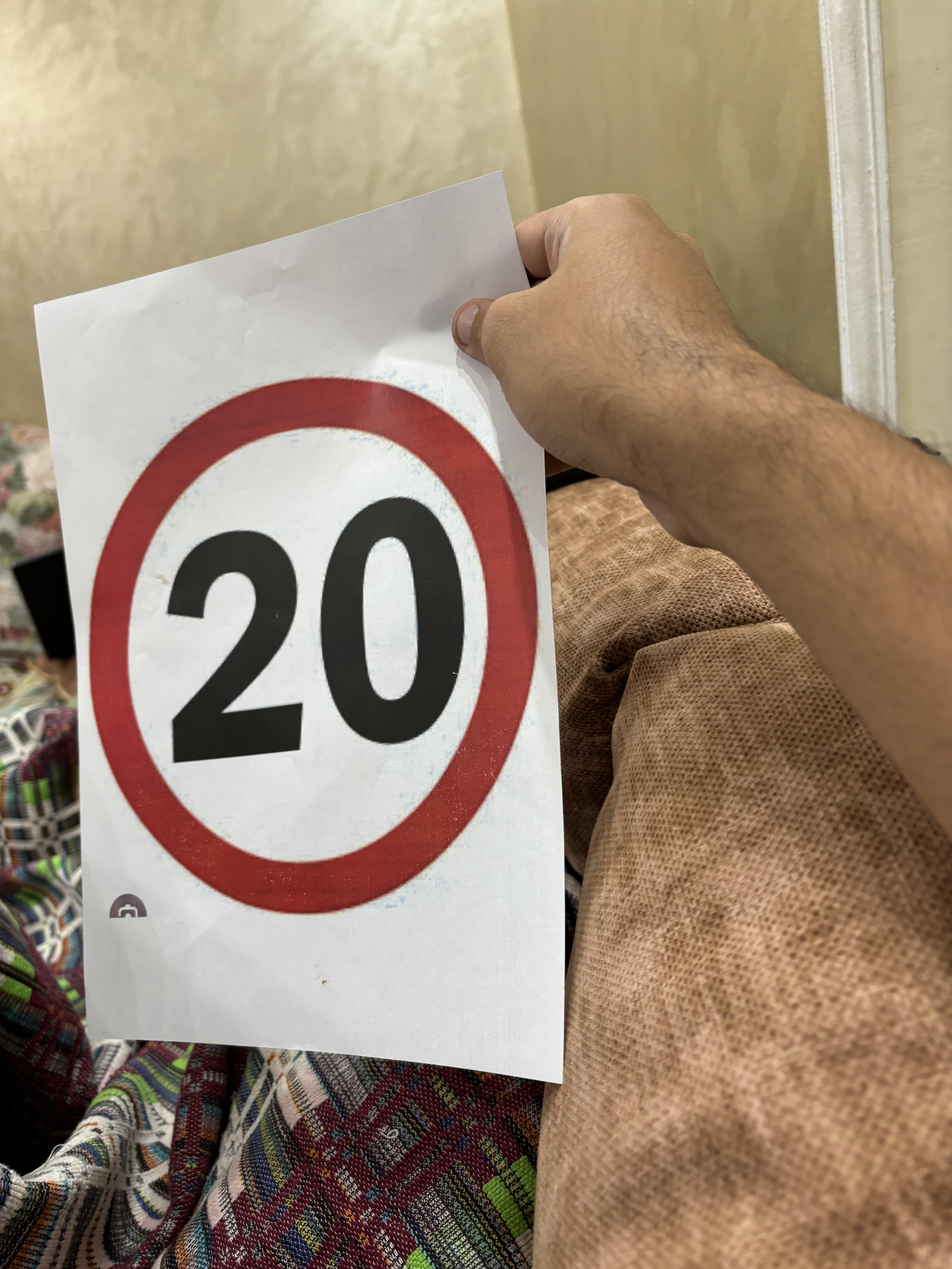20-Speed: (67, 367, 546, 909)
